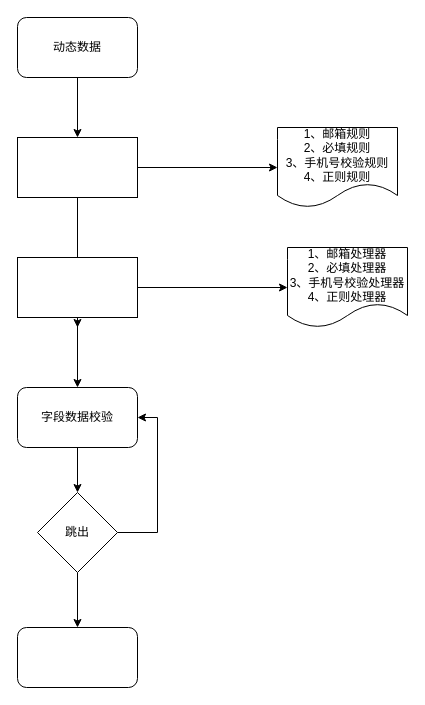
Image size: 425x705. Some labels were removed from this diagram. Here are the shapes that lost their labels. From the top down, the centre of each, then its label:
At pixel 77 167: "解析字段约束规则".
At pixel 77 287: "匹配对应规则处理器".
At pixel 77 657: "输出校验结果".
